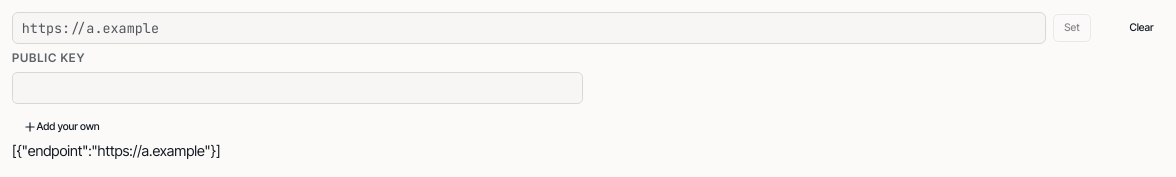
Test: SchemaSetValueArrayControl › edits a set value and sets it again; Set is disabled until the value changes
The width and height of the screenshot is (1176, 177).
Replace the text in the field named "Witnesses 1" with "https://b.example" at [529, 28], box [12,12,1046,44]
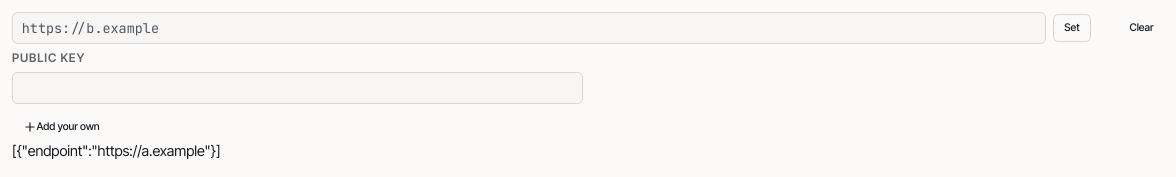
expect the text with test id "value" shows "https://a.example": met, box [12,142,220,160]
Click the button "Set" at [1072, 28], box [1053,14,1091,42]
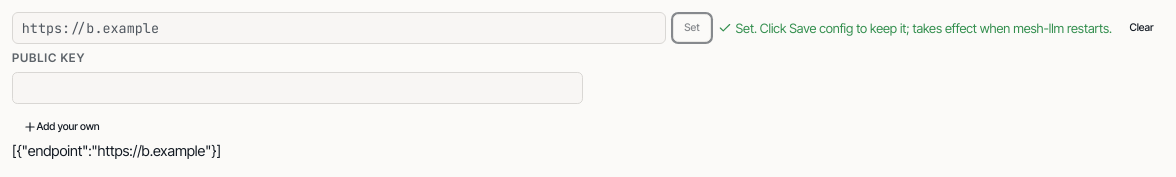
expect the text with test id "value" reads "[{\"endpoint\":\"https://b.example\"}]": met, box [12,142,221,160]
